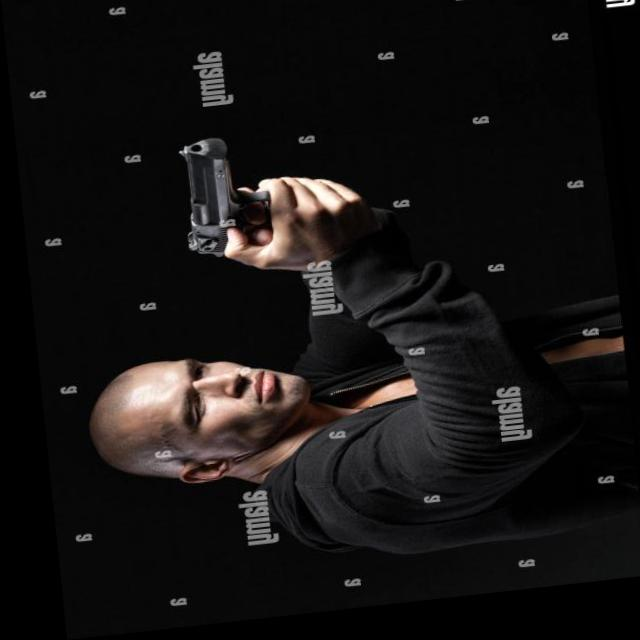handgun: (171, 129, 337, 268)
